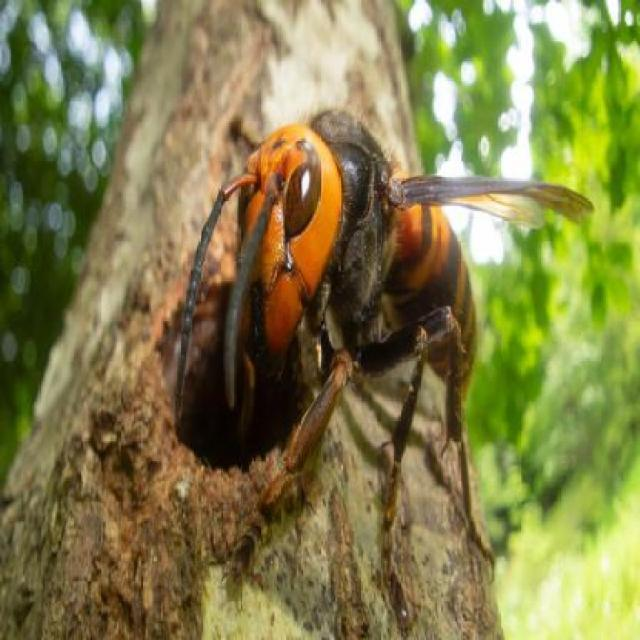Wasp: (186, 87, 596, 566)
